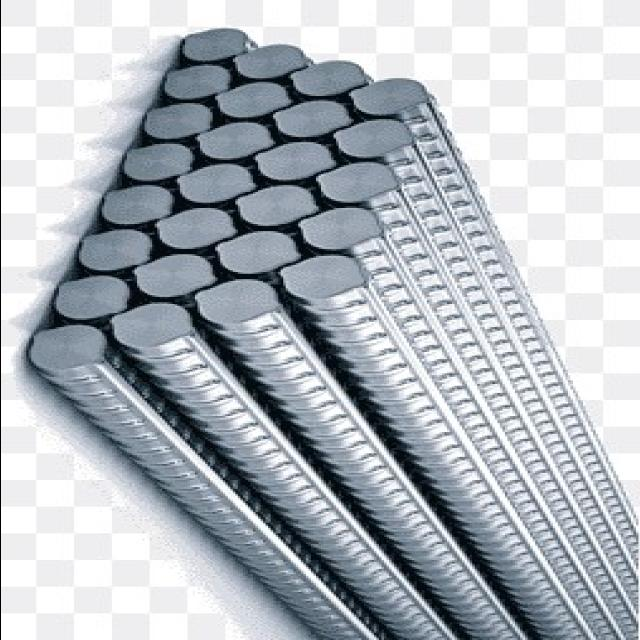Rebar: (20, 324, 105, 374), (285, 252, 368, 302), (320, 161, 404, 209), (223, 232, 299, 282), (202, 276, 272, 328), (116, 300, 184, 350), (243, 185, 317, 229), (350, 73, 430, 113), (143, 249, 208, 297), (105, 181, 168, 230), (167, 205, 231, 253), (84, 224, 152, 268), (62, 275, 127, 321), (276, 99, 345, 142), (341, 120, 411, 160), (221, 79, 290, 119), (125, 141, 193, 181), (287, 57, 359, 94), (308, 209, 378, 247), (184, 22, 244, 64), (237, 40, 302, 78), (185, 168, 246, 208), (145, 101, 209, 139), (262, 142, 332, 176), (206, 122, 264, 161), (166, 62, 228, 96)
